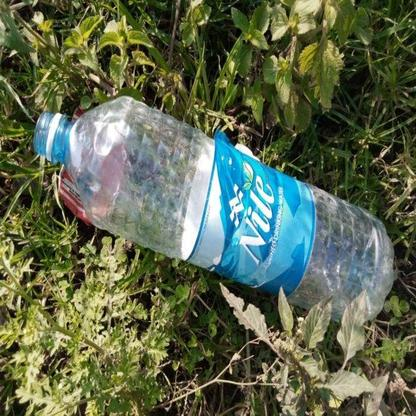plastic bottle: (31, 95, 394, 324)
